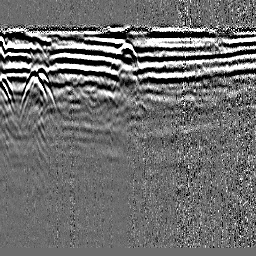cavity: (117, 39, 136, 58)
